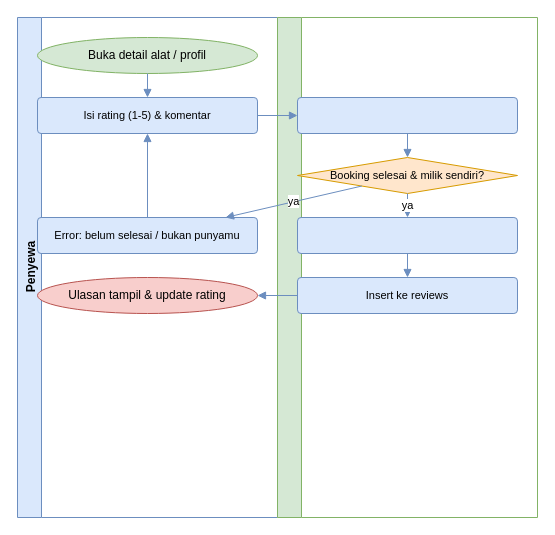
Image size: 555x535. Some labels were removed from this diagram. Here are the shapes that lost their labels. From the top down, the box of each, then its label:
(296, 96, 518, 134): createReview: cek auth & validasi
(296, 216, 518, 254): Cek duplikat ulasan
(276, 16, 538, 518): Sistem
